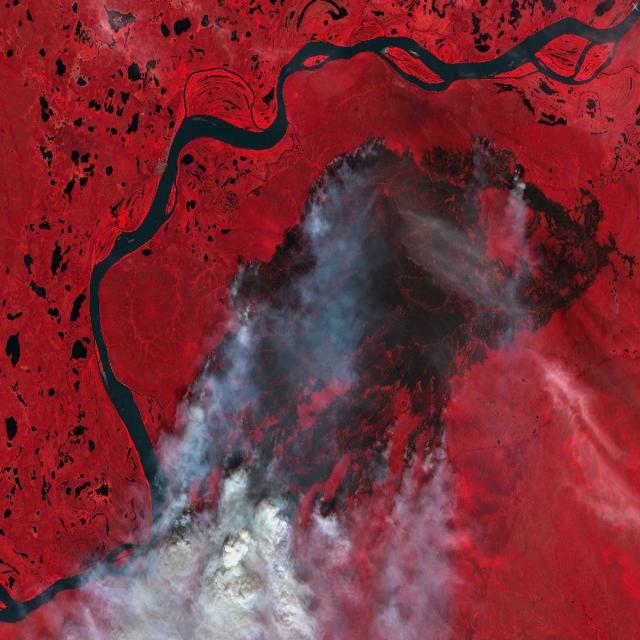fire: (158, 126, 532, 535)
